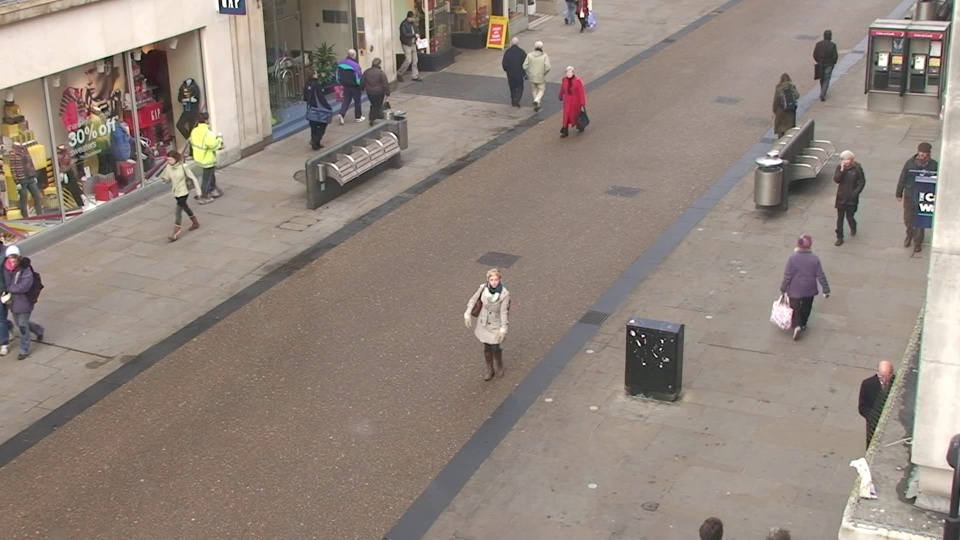pedestrian: (850, 350, 912, 512), (474, 262, 518, 397), (780, 228, 826, 354), (894, 138, 942, 243), (824, 146, 866, 251), (156, 147, 198, 248), (188, 107, 225, 199), (767, 69, 799, 153), (677, 499, 742, 540), (299, 64, 329, 144), (809, 28, 840, 103), (363, 54, 392, 132), (557, 63, 584, 145), (339, 45, 366, 120), (527, 37, 553, 111), (501, 35, 527, 108), (399, 9, 423, 75)
